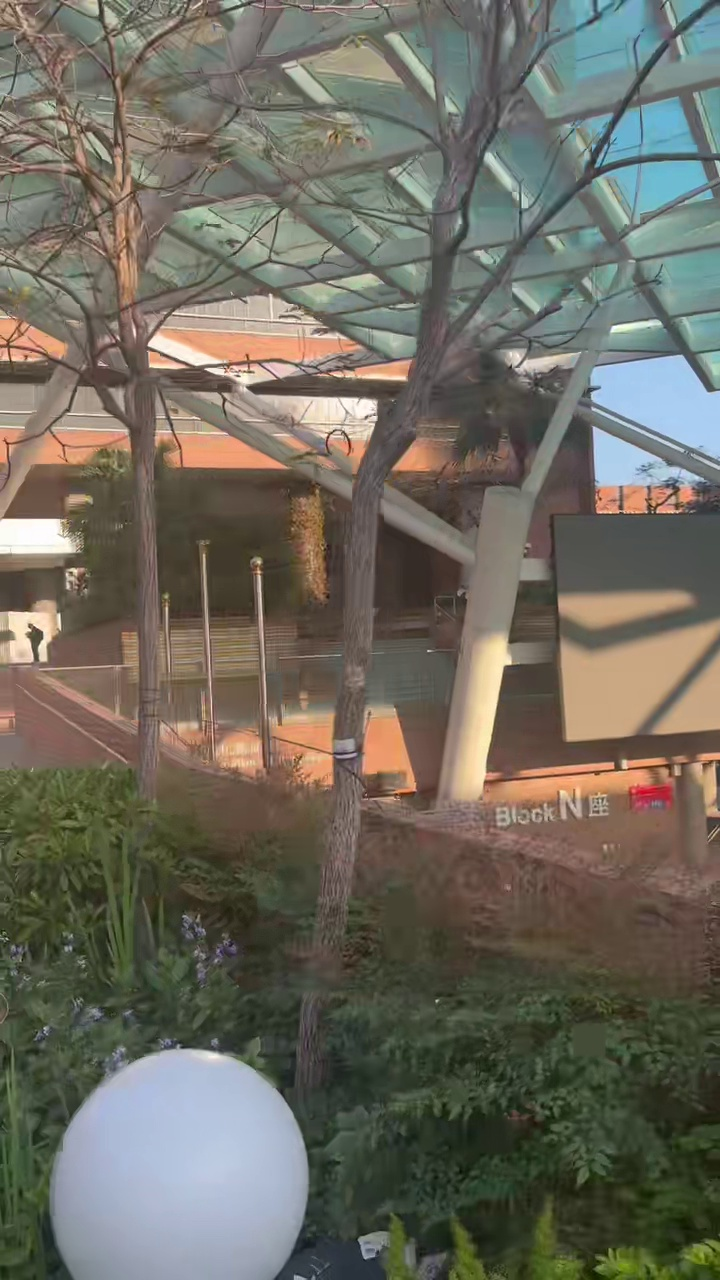Tabebuia chrysantha: (295, 0, 719, 1099)
